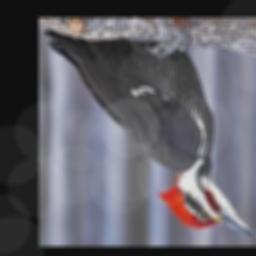Woodpecker: (41, 29, 255, 237)
